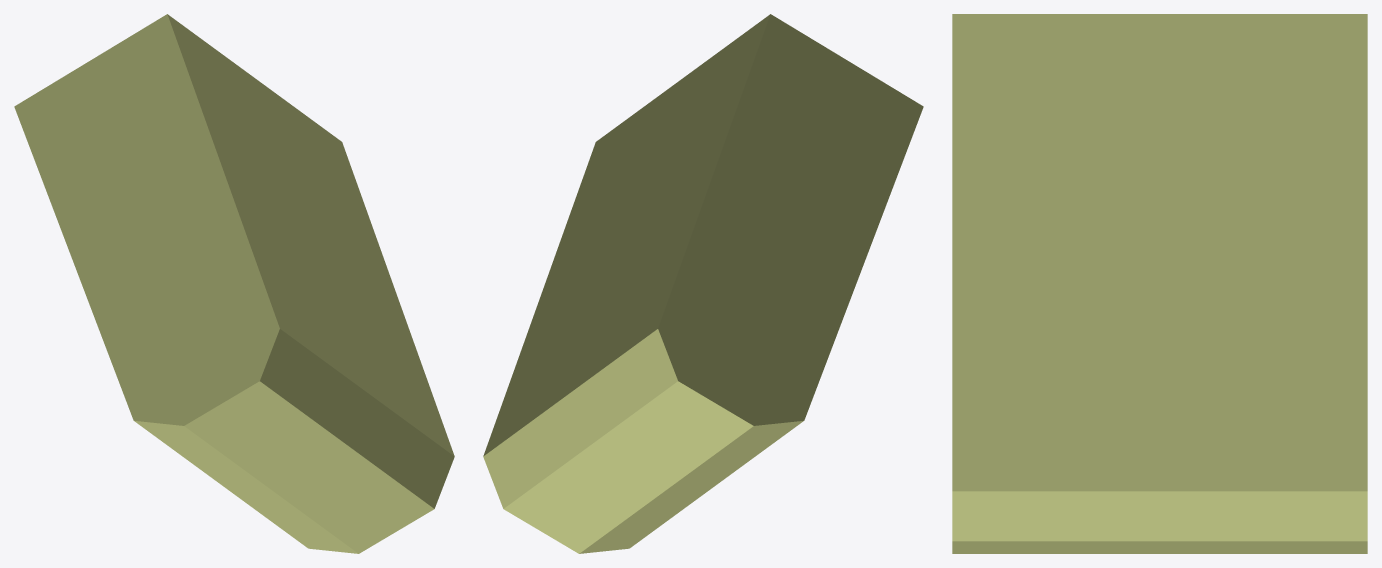
3 renders of one model, left to right at view 1: azimuth 30°, elevation 25°; view 2: azimuth 150°, elevation 25°; view 3: azimuth 270°, elevation 25°, orthographic. The views are drawn at different scales.
Visible parts, largest first — view 1: 0_0_1_1_3_2_0_1_1_2; view 2: 0_0_1_1_3_2_0_1_1_2; view 3: 0_0_1_1_3_2_0_1_1_2.
Part boxes in pixels (left/top/right/bottom): 0_0_1_1_3_2_0_1_1_2: left=14, top=14, right=454, bottom=553; 0_0_1_1_3_2_0_1_1_2: left=483, top=14, right=923, bottom=553; 0_0_1_1_3_2_0_1_1_2: left=952, top=14, right=1367, bottom=553.
Bounding box in the file's own units: 7.9 × 11.82 × 9.
